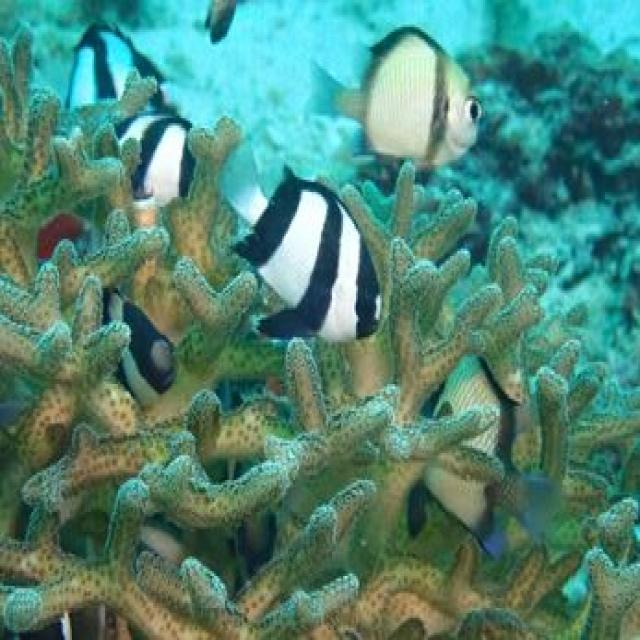ThreeStripedDamselfish: (221, 143, 391, 345)
